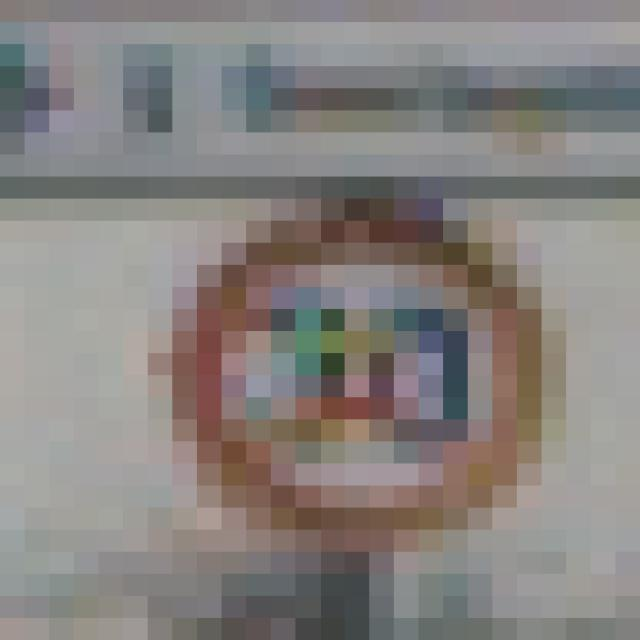Speed Limit -30-: (110, 121, 504, 518)
